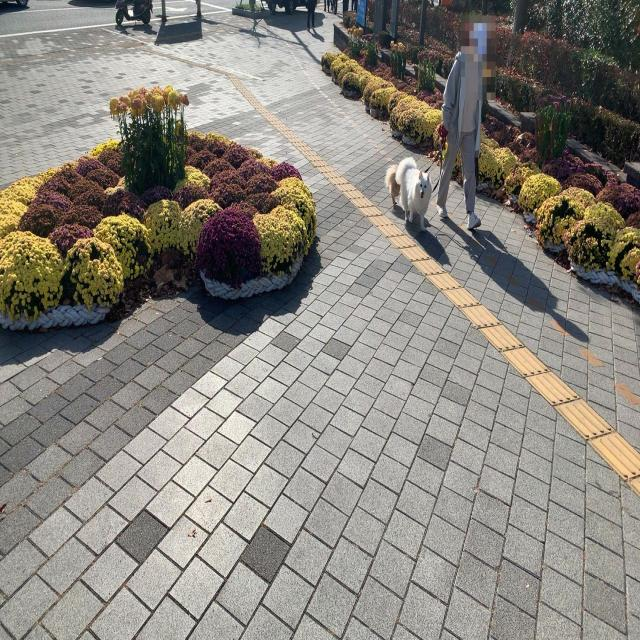Leashed_Dog: (384, 121, 453, 233)
